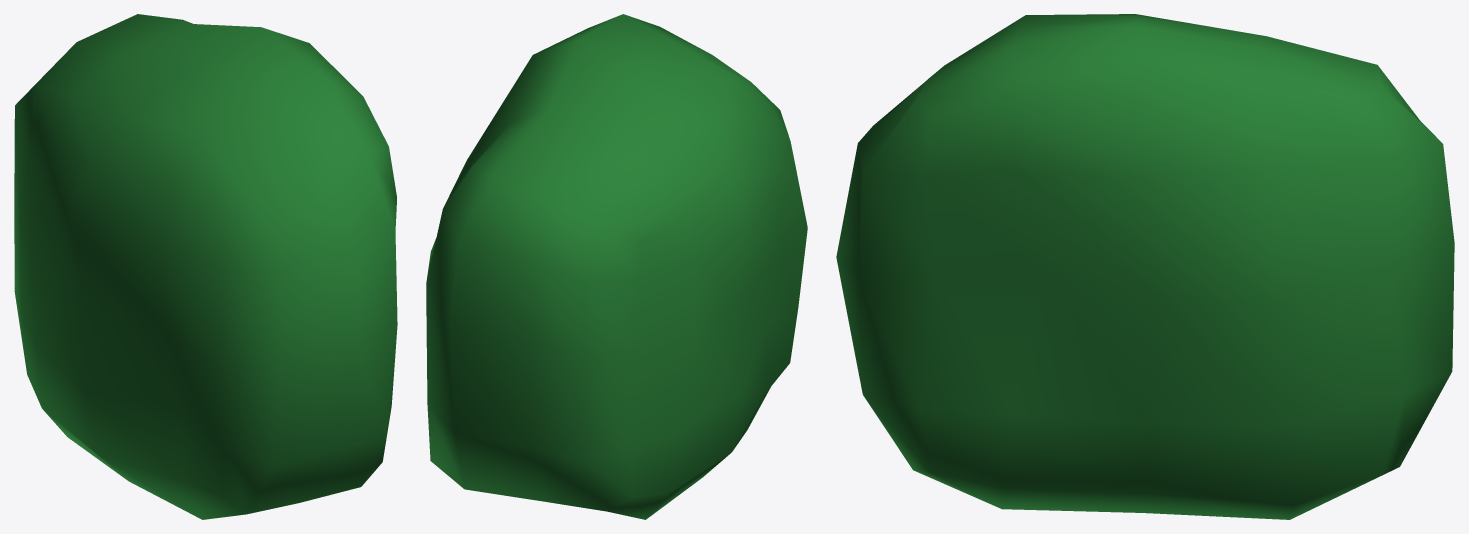
File: Arbusto3.fbx
The picture shows the model from 3 angles, left to right: view 1: azimuth 30°, elevation 25°; view 2: azimuth 150°, elevation 25°; view 3: azimuth 270°, elevation 25°; orthographic projection. The views are drawn at different scales.
Visible parts, largest first — view 1: Arbusto4; view 2: Arbusto4; view 3: Arbusto4.
Boxes of the visible parts, x1,y1,x2,y2 form: Arbusto4: (14, 14, 397, 519); Arbusto4: (426, 14, 807, 519); Arbusto4: (836, 14, 1454, 519).
Size of the model in its own units: 890 by 1311 by 1512.
